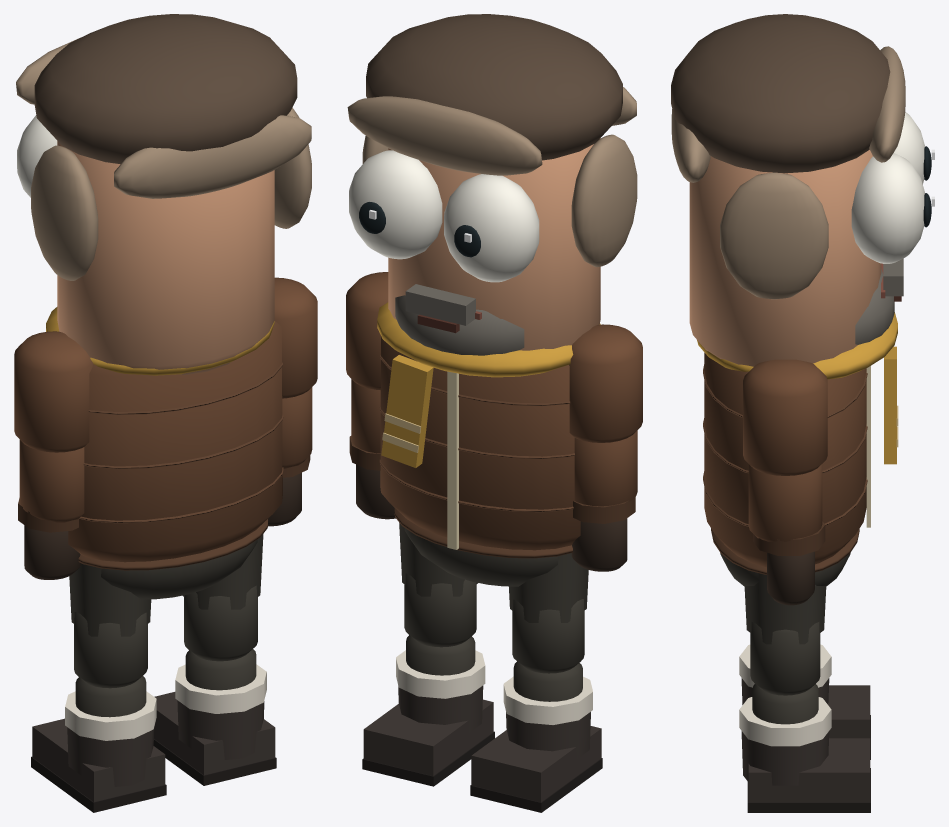
File: spectator_winter_8.glb
The picture shows the model from 3 angles, left to right: view 1: azimuth 30°, elevation 25°; view 2: azimuth 150°, elevation 25°; view 3: azimuth 270°, elevation 25°; orthographic projection. The views are drawn at different scales.
Visible parts, largest first — view 1: Head, RallySpectator, LeftShin, RightShin, LeftArm, LeftLeg, LeftForearm, RightLeg, RightArm, RightForearm; view 2: Head, RallySpectator, LeftShin, RightShin, LeftArm, LeftForearm, LeftLeg, RightLeg, RightArm, RightForearm; view 3: Head, RallySpectator, RightShin, RightArm, RightForearm, RightLeg, LeftShin.
Boxes of the visible parts, <box> form: Head: <box>16,14,311,375</box>; RallySpectator: <box>46,307,283,599</box>; LeftShin: <box>31,676,166,812</box>; RightShin: <box>153,649,276,785</box>; LeftArm: <box>14,331,93,452</box>; LeftLeg: <box>69,564,151,688</box>; LeftForearm: <box>18,439,84,579</box>; RightLeg: <box>183,534,263,661</box>; RightArm: <box>274,277,317,398</box>; RightForearm: <box>268,387,312,526</box>; Head: <box>347,14,637,355</box>; RallySpectator: <box>377,302,600,586</box>; LeftShin: <box>470,661,602,812</box>; RightShin: <box>362,635,494,786</box>; LeftArm: <box>569,324,642,442</box>; LeftForearm: <box>571,430,637,571</box>; LeftLeg: <box>509,553,588,673</box>; RightLeg: <box>399,522,477,647</box>; RightArm: <box>346,272,388,389</box>; RightForearm: <box>349,379,395,519</box>; Head: <box>671,14,934,366</box>; RallySpectator: <box>697,312,898,586</box>; RightShin: <box>739,684,870,812</box>; RightArm: <box>743,359,827,475</box>; RightForearm: <box>748,464,825,605</box>; RightLeg: <box>744,573,826,695</box>; LeftShin: <box>739,644,870,759</box>.
Bounding box in the file's own units: 0.9 × 2.19 × 0.7157.
